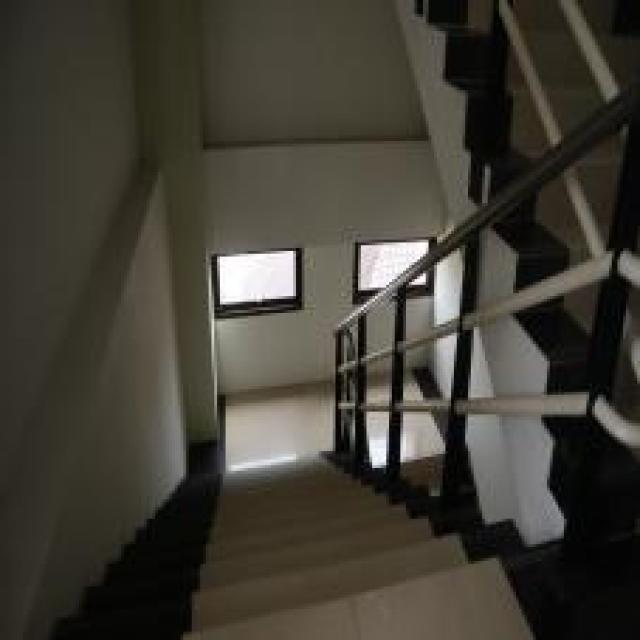downstair: (142, 444, 545, 638)
